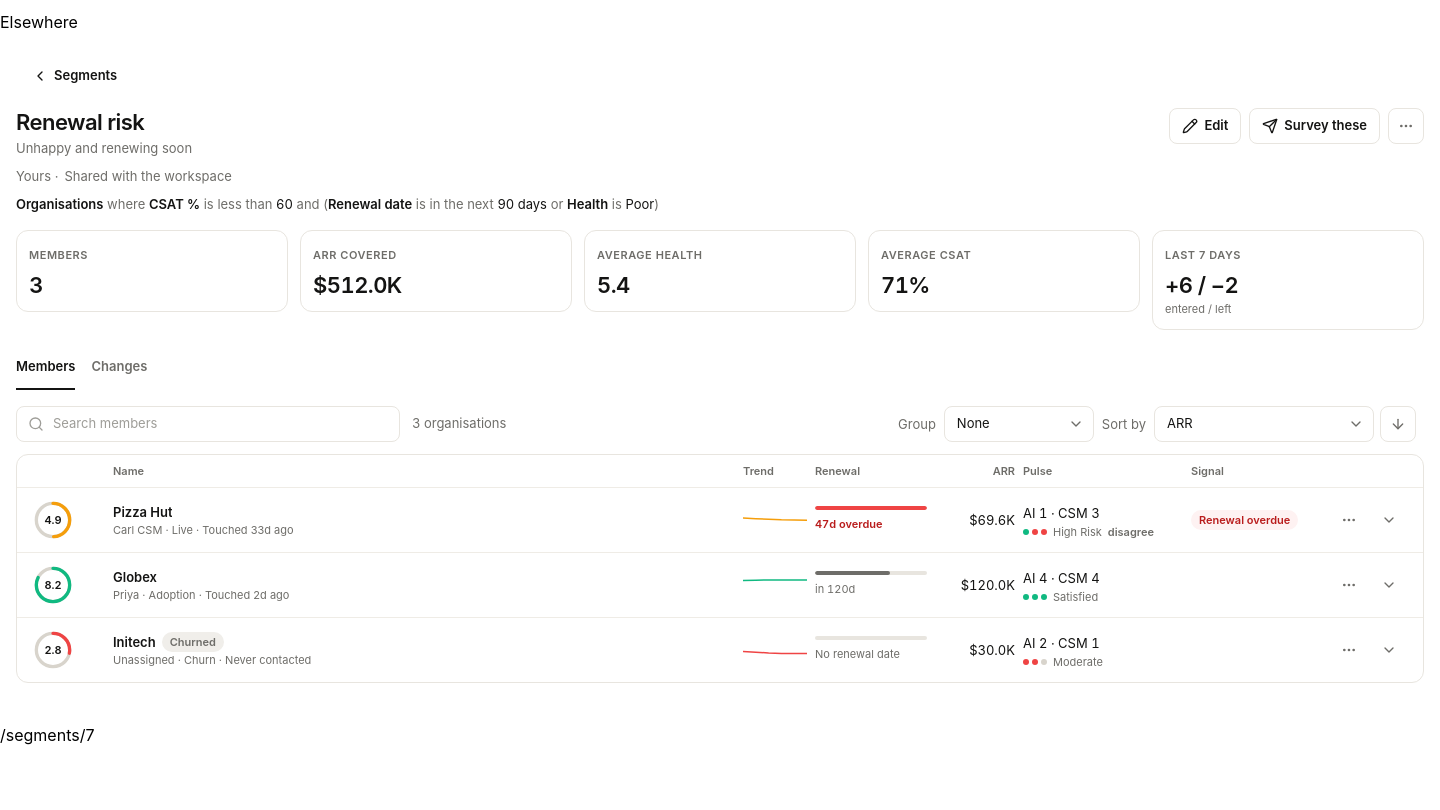
Test: /segments/:id (spec §3) › keeps the dialog open with the refusal, and stays on the segment, when the delete fails
Click the button named "More actions".
click(1406, 126)  # box [1388,108,1424,144]
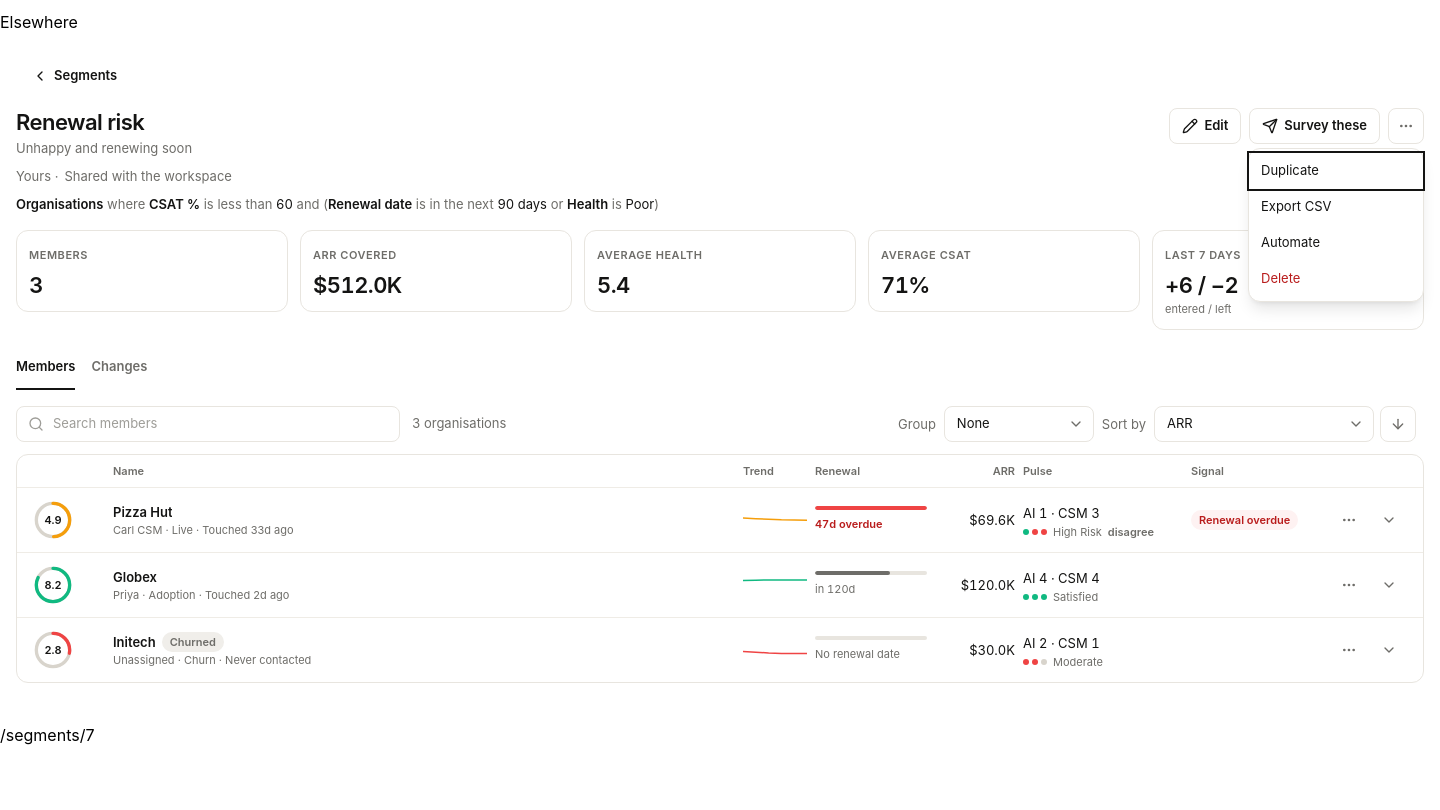
Click the menu item "Delete".
click(1336, 279)  # box [1249,261,1423,297]
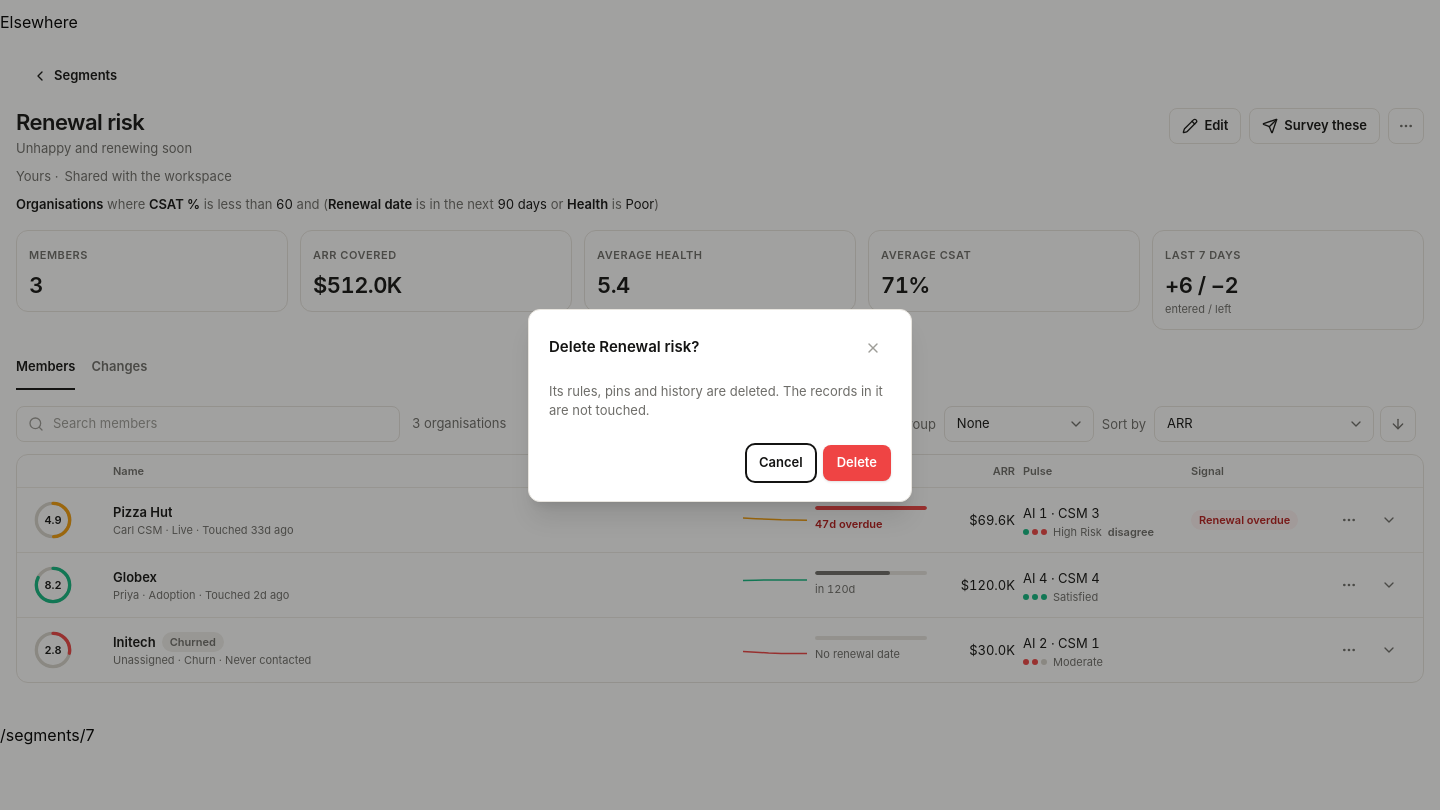
Click the button "Delete".
click(857, 462)  # box [823,444,891,480]
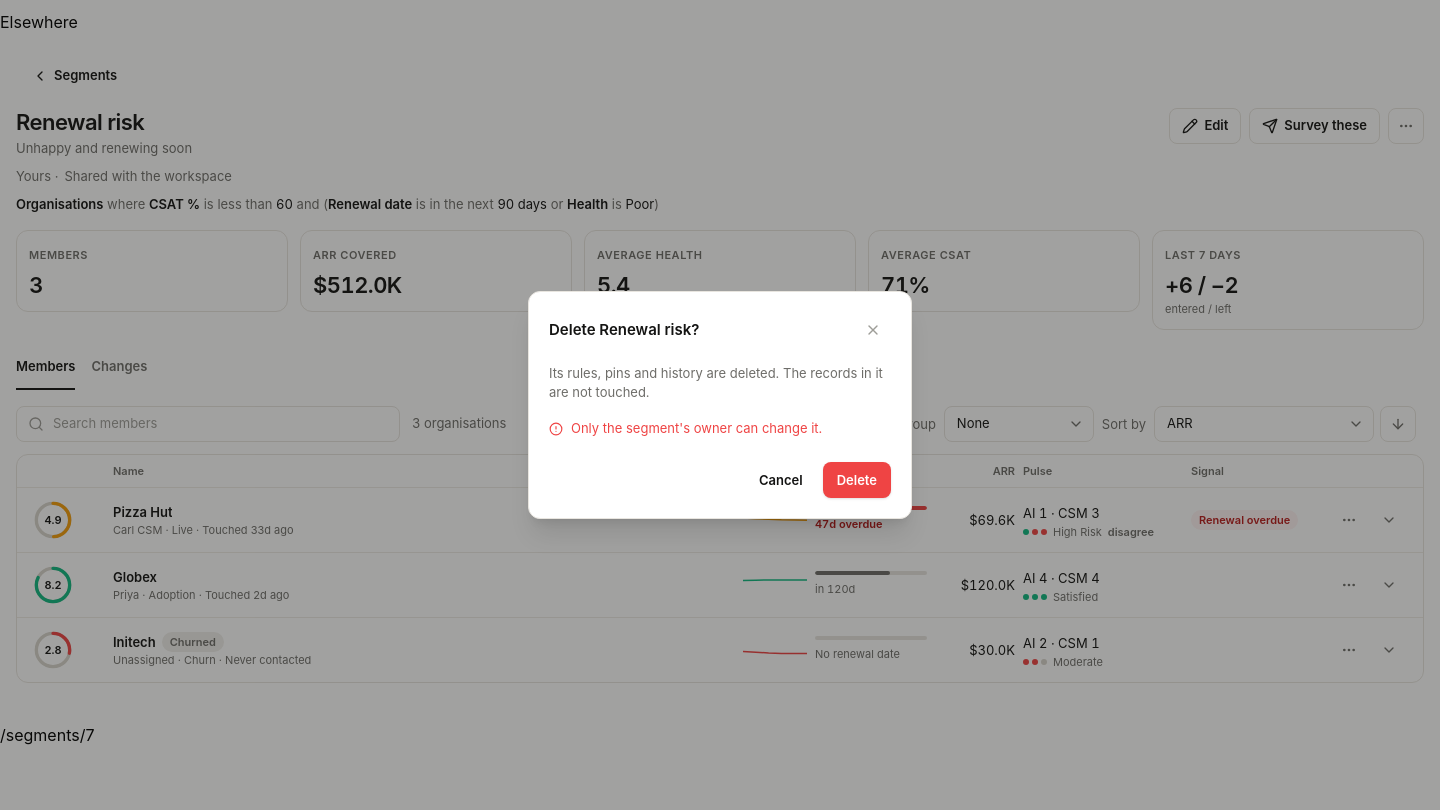
Check: the text with test id "where" reads "/segments/7", box [0,725,94,745]
Check: the heading "Delete Renewal risk?" is shown, box [549,318,699,341]
Check: the text "Only the segment's owner can change it." is shown, box [549,420,822,436]
